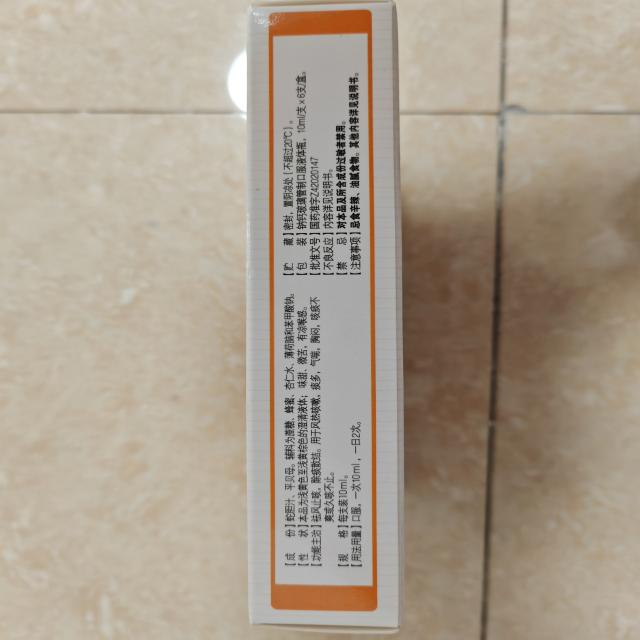box: (234, 2, 408, 636)
